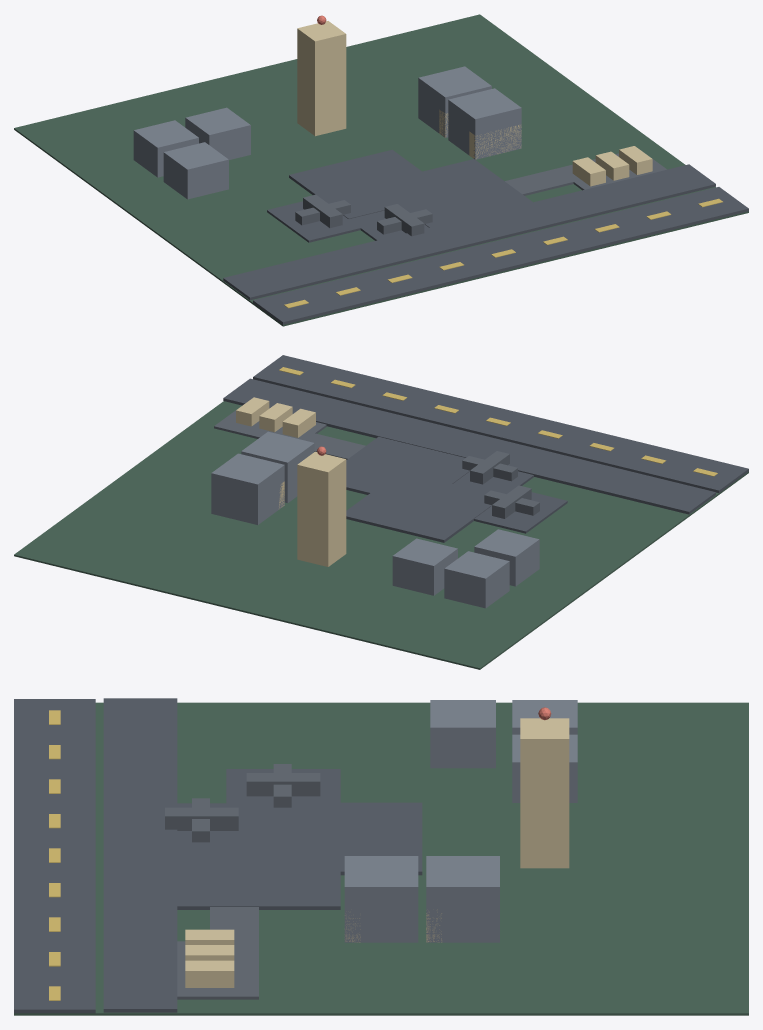
Rendered from stage_13.glb.
The picture shows the model from 3 angles, top to bottom: view 1: azimuth 30°, elevation 25°; view 2: azimuth 150°, elevation 25°; view 3: azimuth 270°, elevation 25°; orthographic projection. The views are drawn at different scales.
Parts seen in each view (by area): view 1: geometry_0; view 2: geometry_0; view 3: geometry_0.
Part boxes in pixels (x1,y1,x2,y2): geometry_0: (14, 14, 748, 326); geometry_0: (14, 355, 748, 669); geometry_0: (14, 698, 748, 1015).
Size of the model in its own units: 9 by 2.06 by 9.
